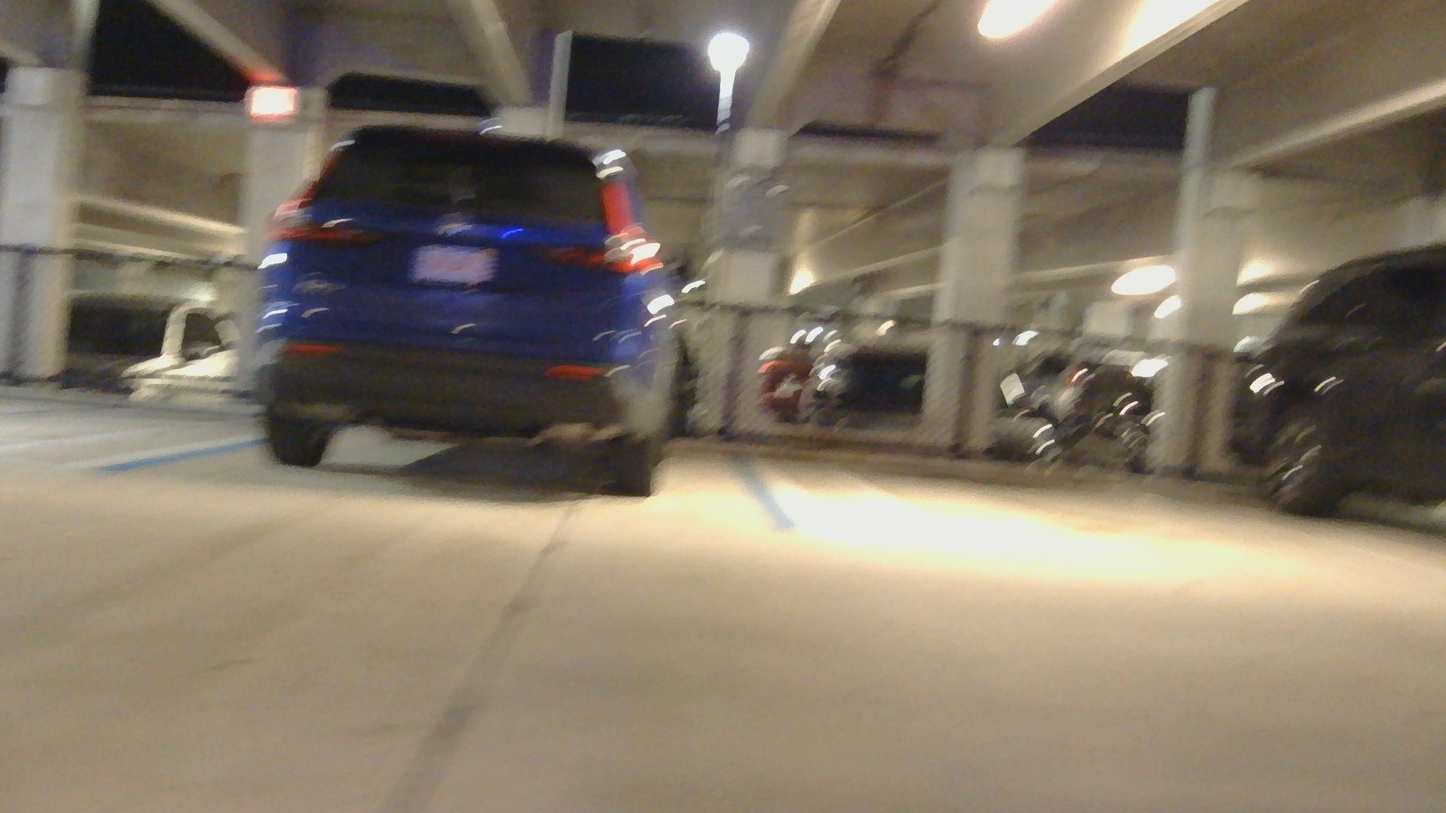empty_spot: (777, 354, 1446, 587), (0, 311, 257, 482)
occupied_spot: (231, 101, 706, 504), (1222, 232, 1445, 585)
